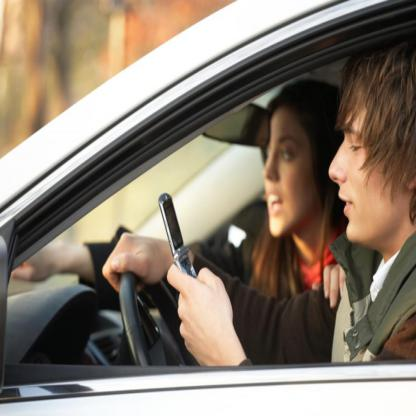face: (329, 85, 399, 242), (264, 113, 312, 236)
